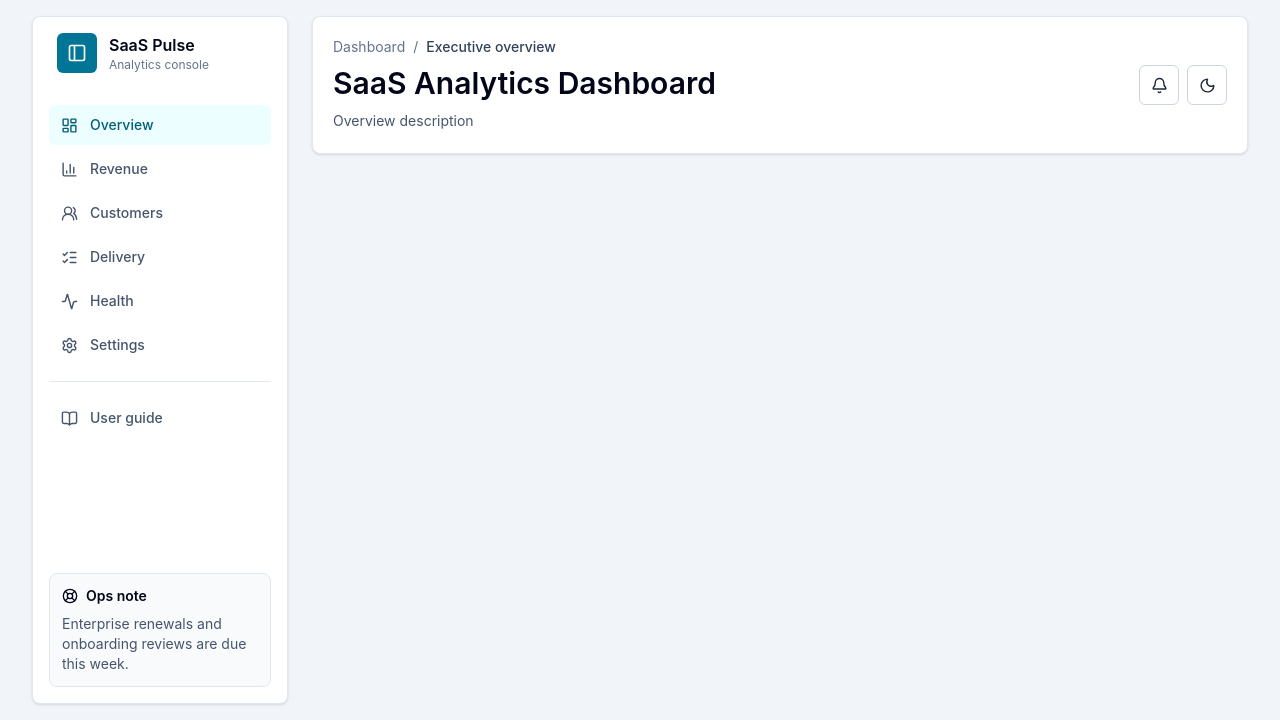
Test: DashboardShell › opens a notifications panel from the bell action
Click the button named "Notifications" at [1159, 85], box x1=1139 y1=65 x2=1179 y2=105
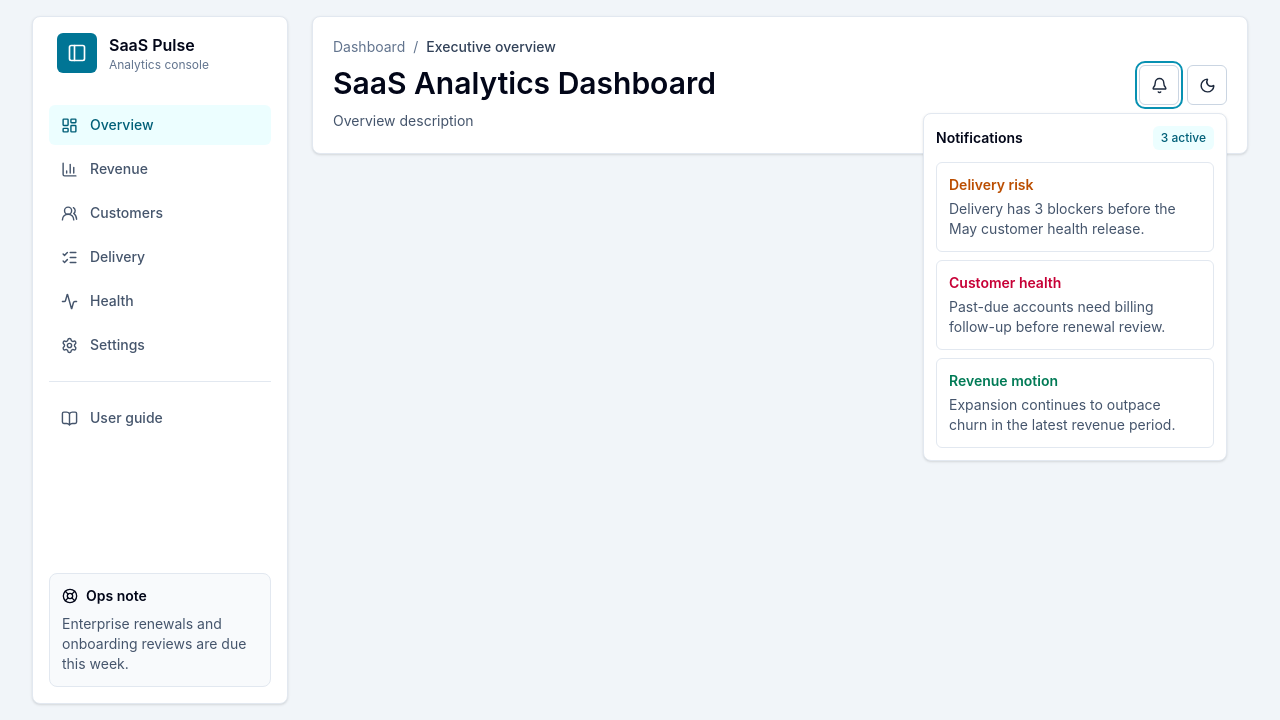
Now the element named "Notifications panel" shows "Delivery risk", box x1=949 y1=176 x2=1034 y2=193
Now the text "3 active" is shown, box x1=1153 y1=126 x2=1214 y2=150
